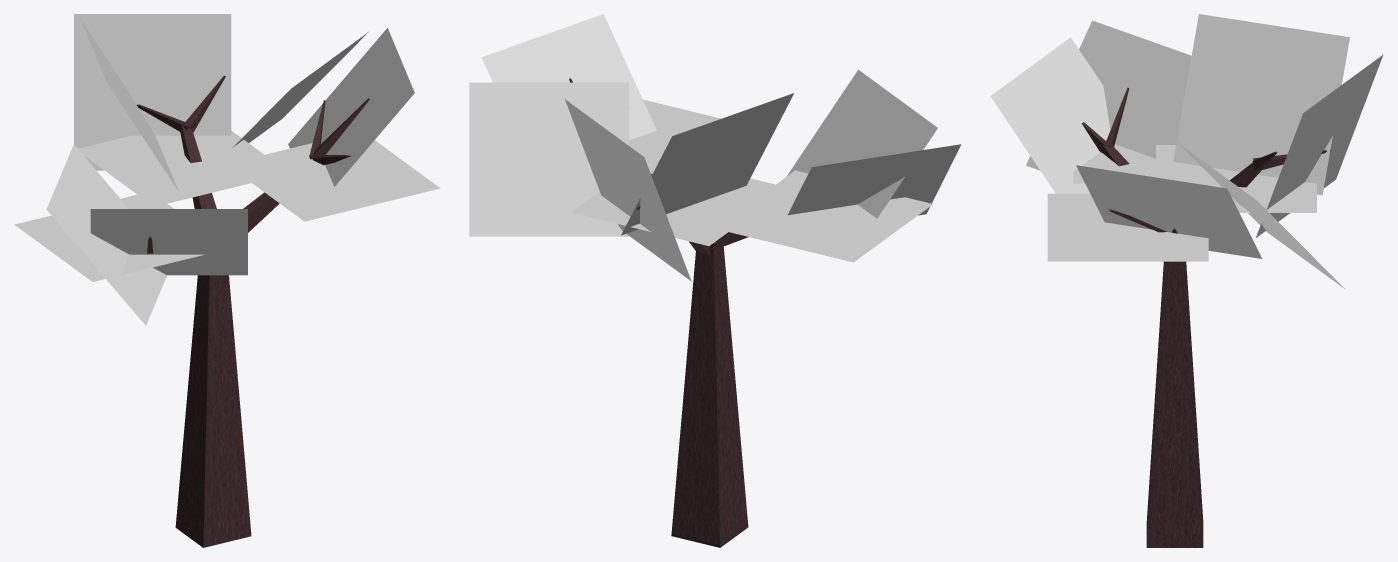
File: tree.fbx
3 renders of one model, left to right at view 1: azimuth 30°, elevation 25°; view 2: azimuth 150°, elevation 25°; view 3: azimuth 270°, elevation 25°, orthographic. The views are drawn at different scales.
Visible parts, largest first — view 1: Branch.001; view 2: Branch.001; view 3: Branch.001.
Part boxes in pixels (box(x1,y1,x2,y2)): Branch.001: box(14, 14, 440, 547); Branch.001: box(469, 14, 961, 547); Branch.001: box(990, 14, 1383, 547).
Bounding box in the file's own units: 598 × 651 × 489.
Materials: 2 (1 with a texture image).
